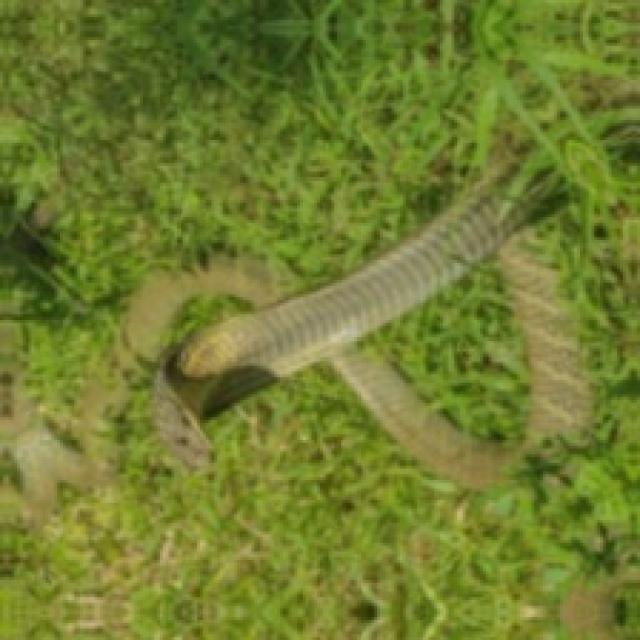king cobra: (10, 172, 592, 526)
